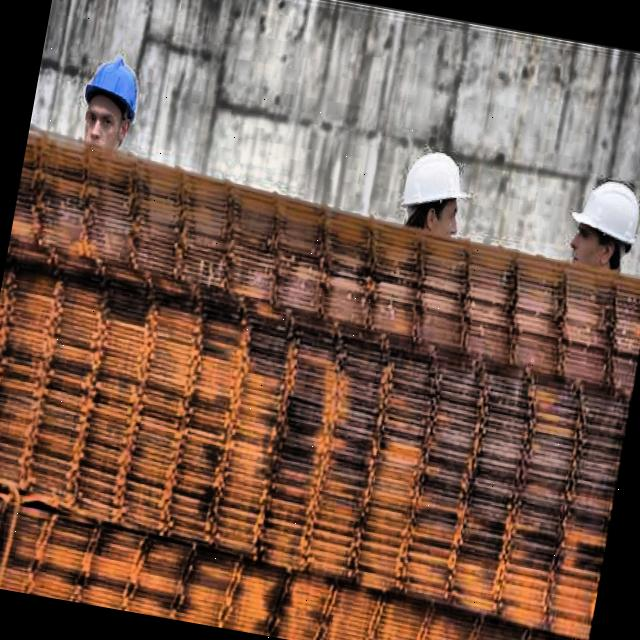helmet: (382, 140, 480, 256), (553, 165, 640, 294), (68, 47, 152, 172)
